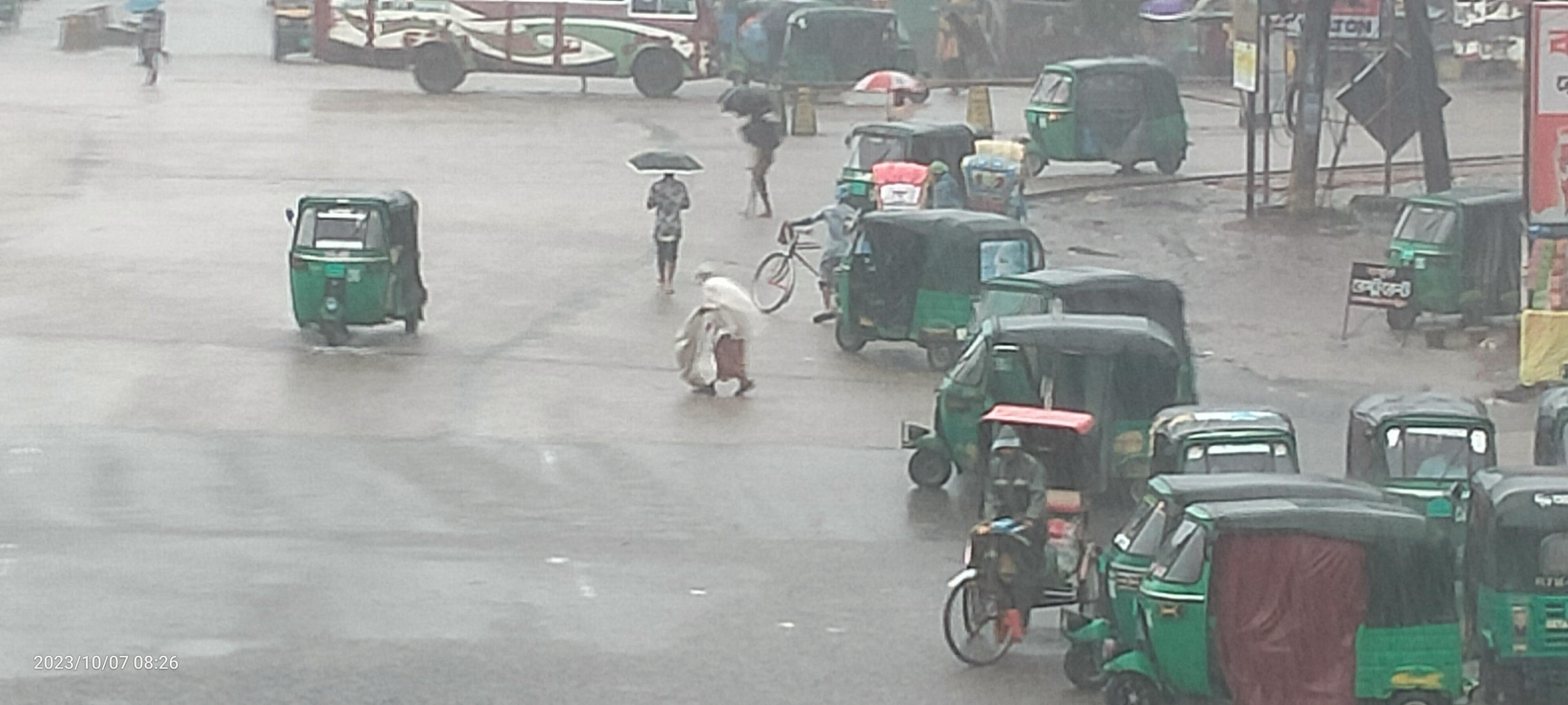Bus: (285, 0, 784, 116)
Car: (740, 150, 942, 277)
